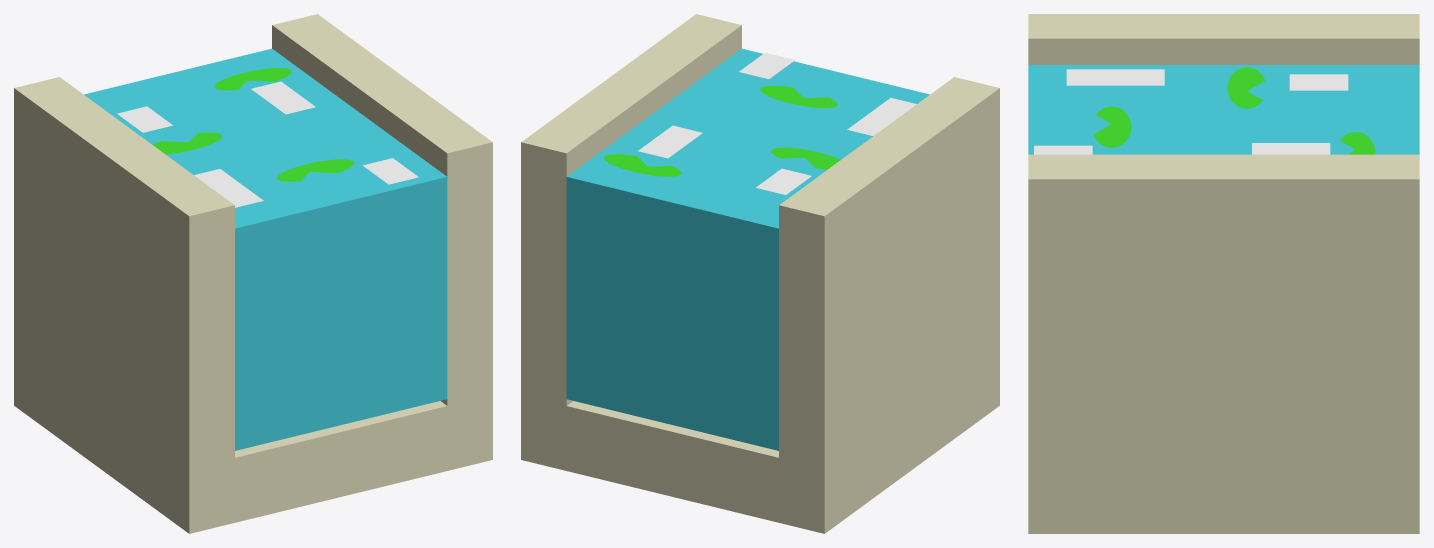
The picture shows the model from 3 angles, left to right: view 1: azimuth 30°, elevation 25°; view 2: azimuth 150°, elevation 25°; view 3: azimuth 270°, elevation 25°; orthographic projection. The views are drawn at different scales.
Parts seen in each view (by area): view 1: Cube, Cube.001, Plane.003, Plane.004, Circle, Circle.002, Plane, Plane.002, Circle.001; view 2: Cube, Cube.001, Plane.003, Plane.004, Circle.002, Circle, Plane.002, Plane, Circle.001; view 3: Cube, Cube.001, Plane.003, Circle.001, Circle, Plane, Plane.004, Plane.002, Circle.002.
Part boxes in pixels (x1=…): Cube: x1=14, y1=14, x2=492, y2=533; Cube.001: x1=84, y1=48, x2=447, y2=450; Plane.003: x1=194, y1=169, x2=263, y2=207; Plane.004: x1=251, y1=81, x2=315, y2=114; Circle: x1=276, y1=159, x2=354, y2=181; Circle.002: x1=214, y1=68, x2=291, y2=90; Plane: x1=117, y1=106, x2=172, y2=132; Plane.002: x1=363, y1=158, x2=418, y2=184; Circle.001: x1=152, y1=132, x2=221, y2=154; Cube: x1=521, y1=14, x2=999, y2=533; Cube.001: x1=566, y1=48, x2=929, y2=450; Plane.003: x1=847, y1=98, x2=916, y2=135; Plane.004: x1=638, y1=125, x2=702, y2=158; Circle.002: x1=604, y1=154, x2=681, y2=176; Circle: x1=760, y1=85, x2=837, y2=108; Plane.002: x1=739, y1=52, x2=794, y2=79; Plane: x1=756, y1=168, x2=811, y2=194; Circle.001: x1=771, y1=147, x2=840, y2=169; Cube: x1=1028, y1=14, x2=1419, y2=533; Cube.001: x1=1028, y1=65, x2=1419, y2=154; Plane.003: x1=1066, y1=69, x2=1164, y2=85; Circle.001: x1=1227, y1=67, x2=1265, y2=108; Circle: x1=1093, y1=106, x2=1131, y2=147; Plane: x1=1289, y1=74, x2=1348, y2=90; Plane.004: x1=1252, y1=143, x2=1330, y2=154; Plane.002: x1=1034, y1=145, x2=1092, y2=154; Circle.002: x1=1340, y1=132, x2=1375, y2=154.
Bounding box in the file's own units: 2 × 2 × 2.
